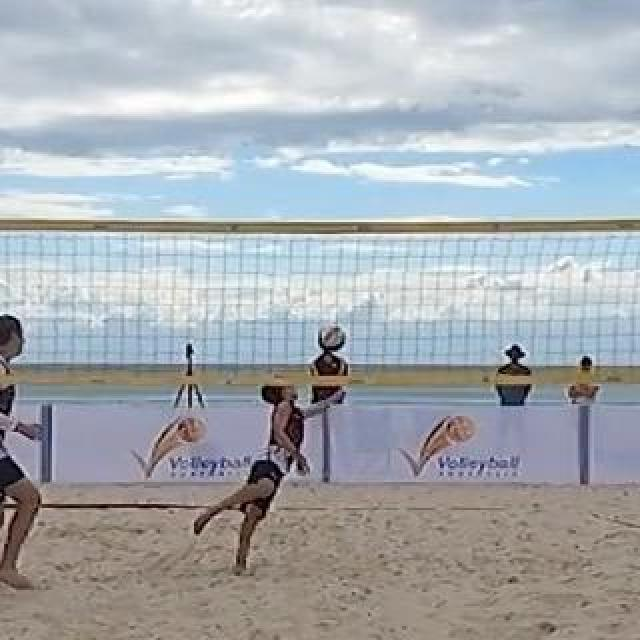volleyball: (317, 324, 345, 352)
